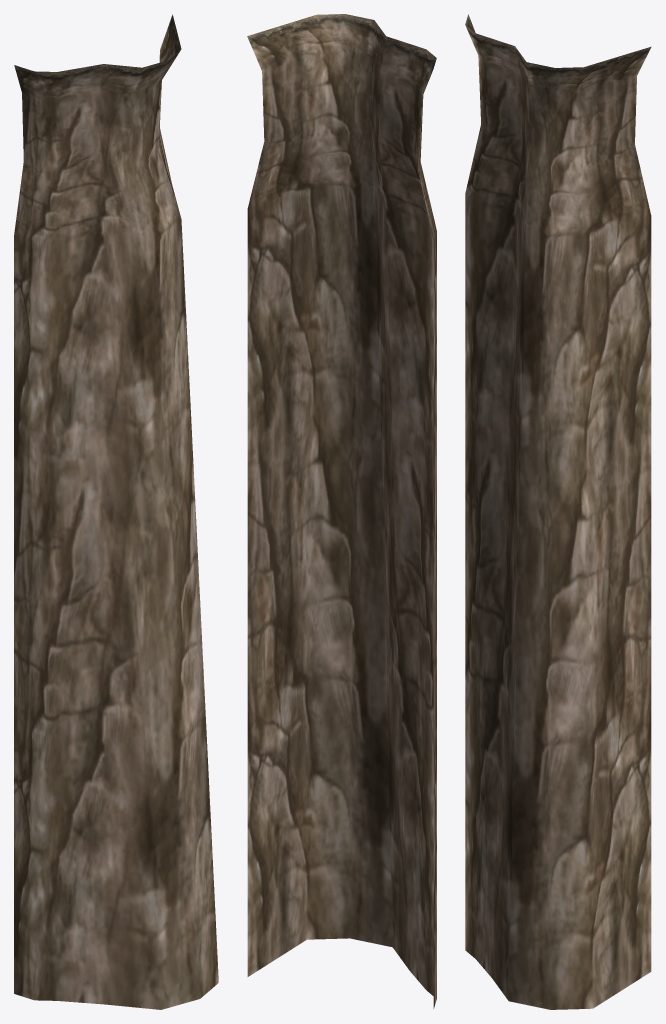
The model's file is OVERHILL_A_01_LINE82.fbx.
3 renders of one model, left to right at view 1: azimuth 30°, elevation 25°; view 2: azimuth 150°, elevation 25°; view 3: azimuth 330°, elevation 25°, orthographic.
Parts seen in each view (by area): view 1: OVERHILL_A_01_LINE82; view 2: OVERHILL_A_01_LINE82; view 3: OVERHILL_A_01_LINE82.
Part boxes in pixels (left/top/right/bottom): OVERHILL_A_01_LINE82: left=14, top=14, right=218, bottom=1009; OVERHILL_A_01_LINE82: left=247, top=14, right=436, bottom=1008; OVERHILL_A_01_LINE82: left=465, top=14, right=651, bottom=1009.
Size of the model in its own units: 32980 by 170884 by 22042.
Materials: 2 (2 with a texture image).
